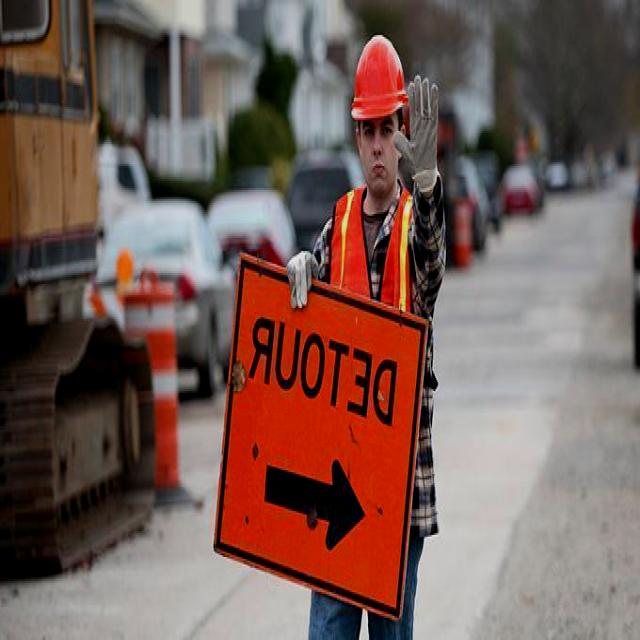hand_glove: (394, 78, 441, 201), (284, 232, 317, 316)
head_helmet: (348, 29, 413, 120)
person: (303, 31, 448, 640)
vest: (331, 185, 413, 432)
